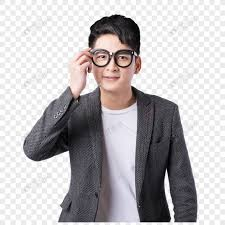glasses: (84, 42, 138, 70)
